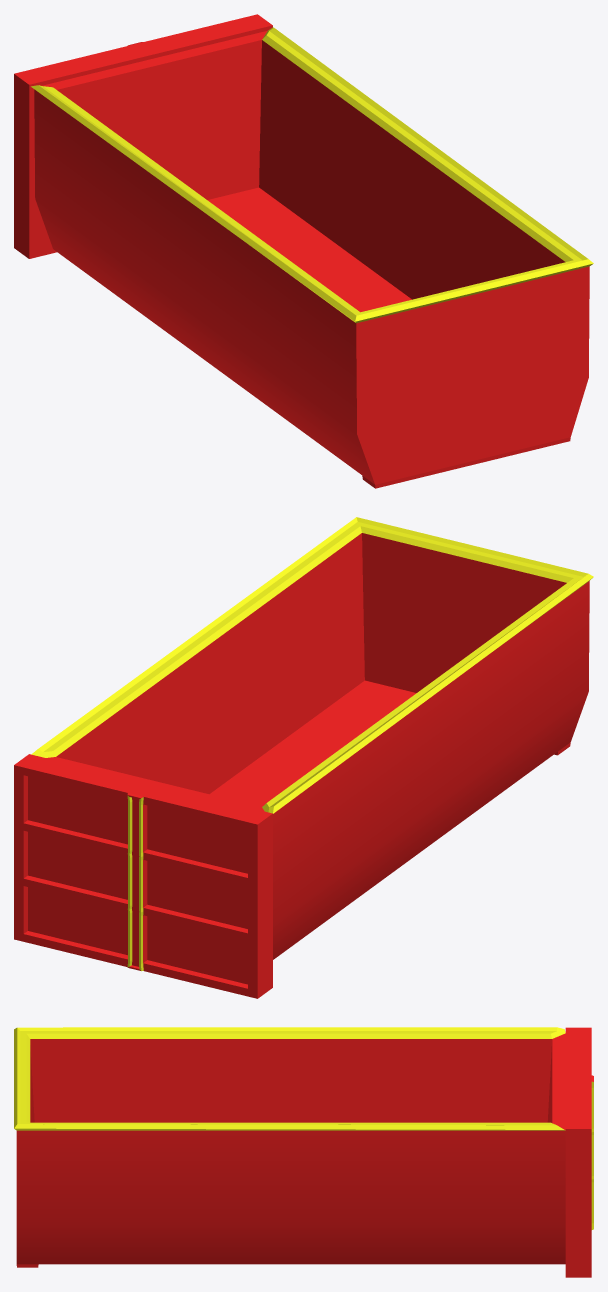
Rendered from dumpsterLarge.FBX.
3 views of the same model, one above another, from view 1: azimuth 30°, elevation 25°; view 2: azimuth 150°, elevation 25°; view 3: azimuth 270°, elevation 25° (orthographic). The views are drawn at different scales.
Visible parts, largest first — view 1: Dumpster_Large; view 2: Dumpster_Large; view 3: Dumpster_Large.
Part boxes in pixels (x1,y1,x2,y2): Dumpster_Large: (14,14,593,488); Dumpster_Large: (14,517,593,998); Dumpster_Large: (14,1027,593,1277).
Bounding box in the file's own units: 100 × 69.66 × 242.
